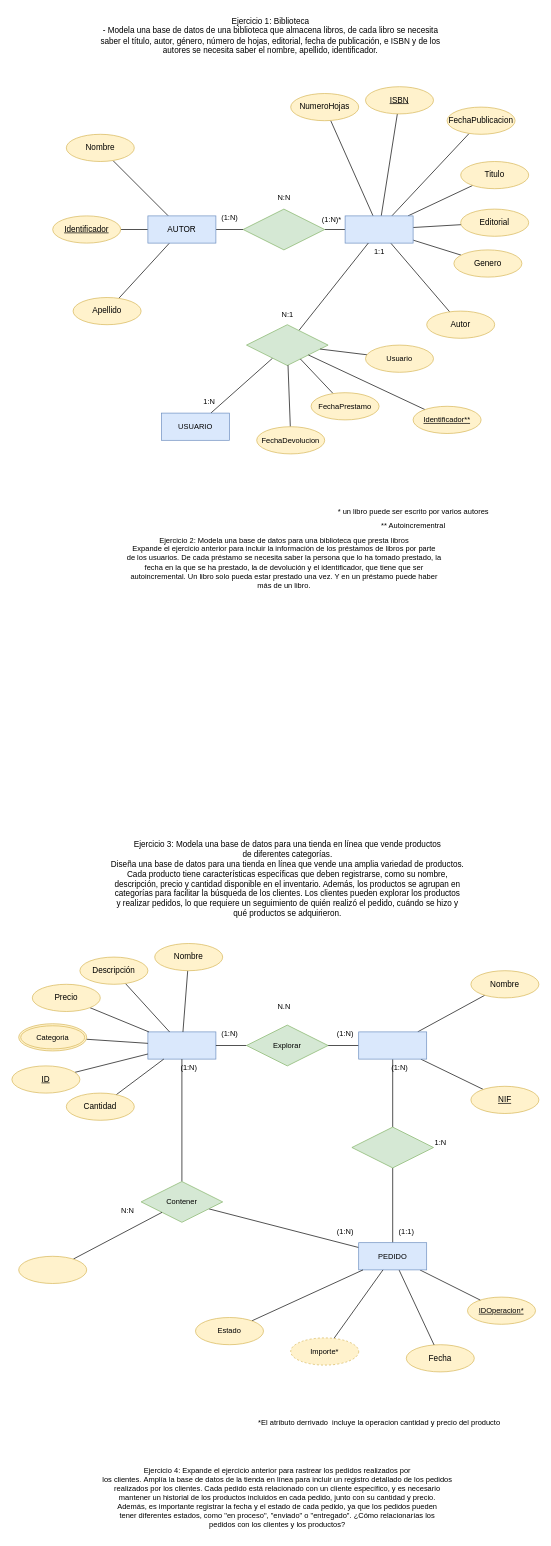
The diagram is 551 pixels wide and 1546 high, and some of its shapes have lost their labels. Here are the shapes that lost their labels. From the top down, the centre of each, then its label:
At (283,229): "Escribir".
At (378,229): "LIBRO".
At (287,345): "TomarPrestado".
At (181,1045): "PRODUCTO".
At (392,1045): "CLIENTE".
At (392,1147): "Realizar".
At (52,1270): "CantidadArticulo".
